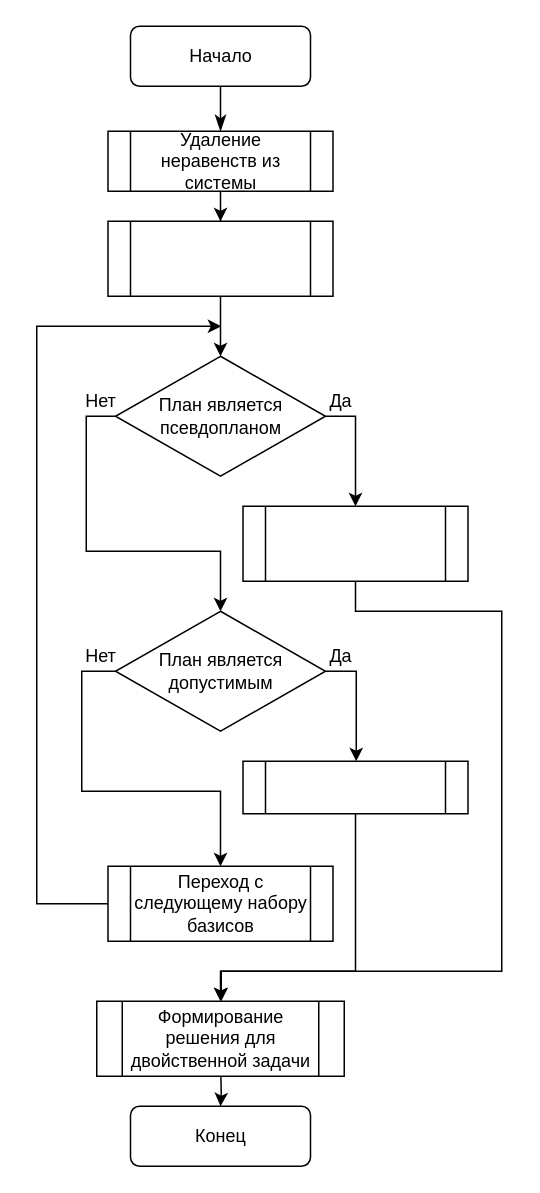
This 540x1193 diagram has some shape labels left out. The centre of each missing label's shape, as x and y in pixels:
Метод последовательного уточнения оценки: point 355,543
Симлекс метод в чистом виде: point 355,787
Формирование первого набора базисов: point 219,258
